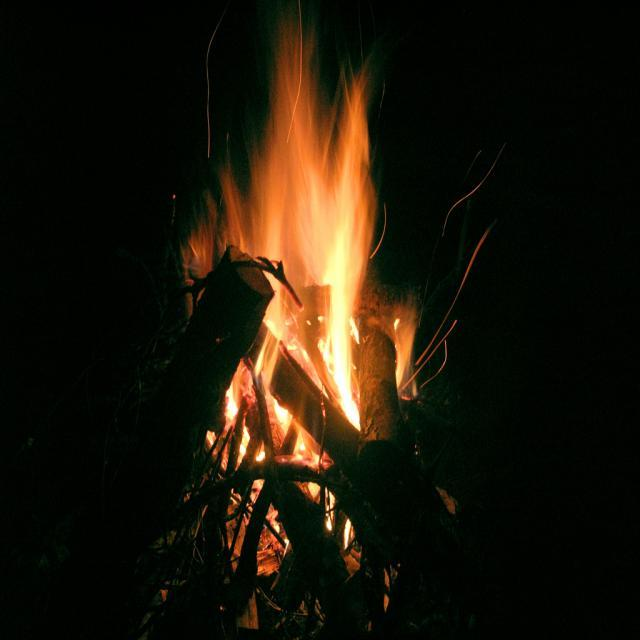Fire: (286, 178, 372, 367)
